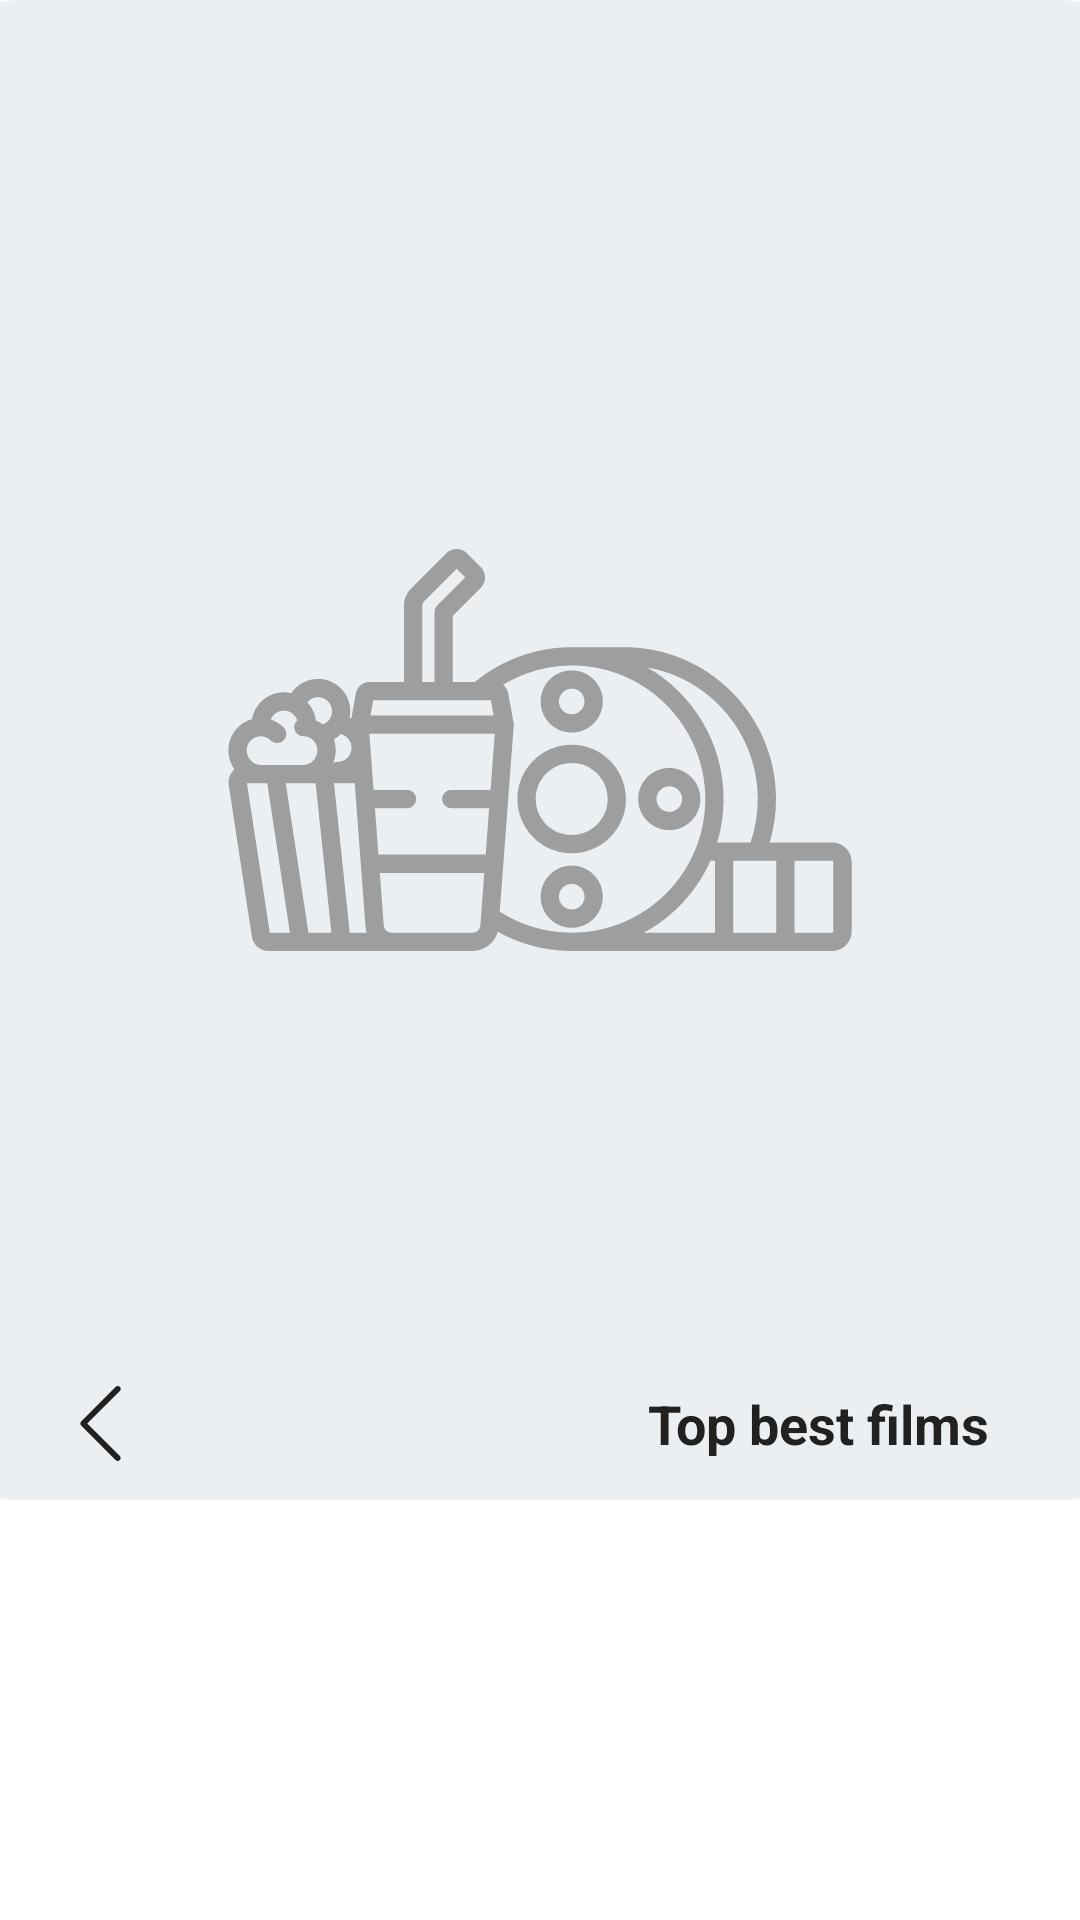

Icon click points for this 1080w x 1920h phone screenshot, format (x,y):
back: (100,1423)
